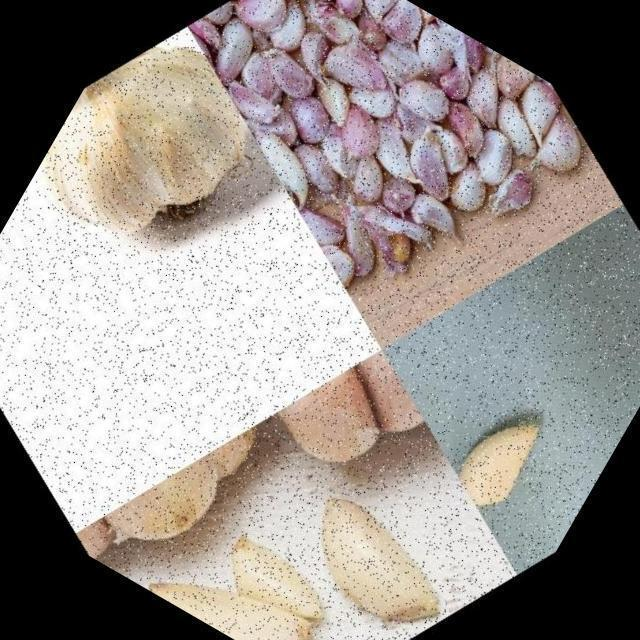garlic: (107, 0, 620, 376), (4, 0, 319, 331), (254, 451, 489, 640), (133, 485, 383, 640), (185, 496, 368, 640), (430, 382, 586, 542)
